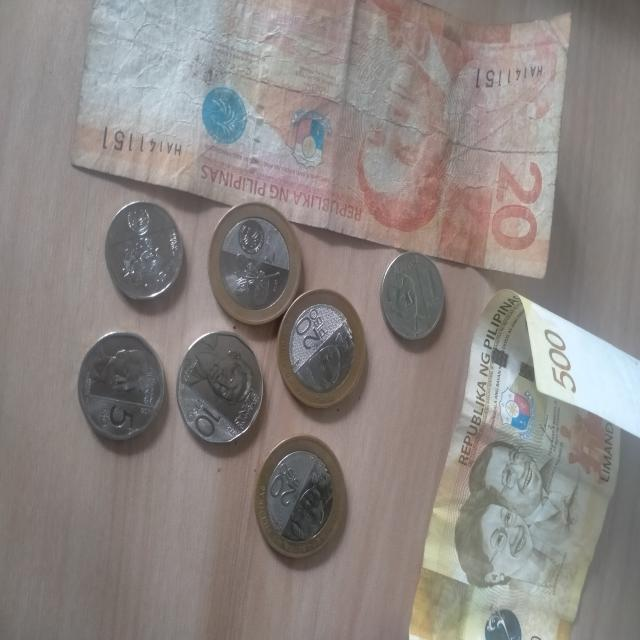10_New_Front: (187, 392, 225, 444)
1_New_Front: (423, 260, 442, 306)
20_New_Front: (266, 453, 306, 512), (288, 302, 332, 354)
